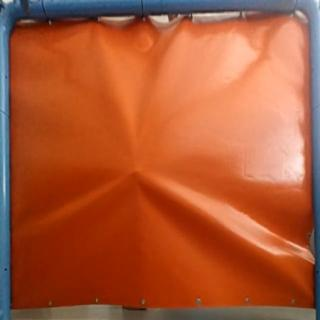Hit-hRxx: (129, 164, 148, 180)
